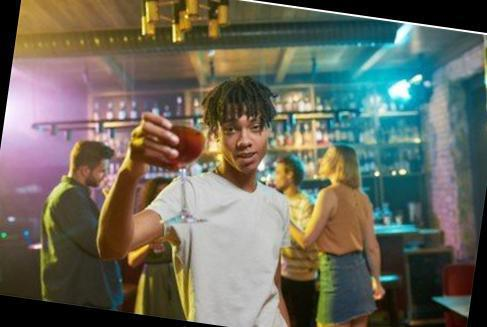Drunk: (222, 108, 267, 172)
